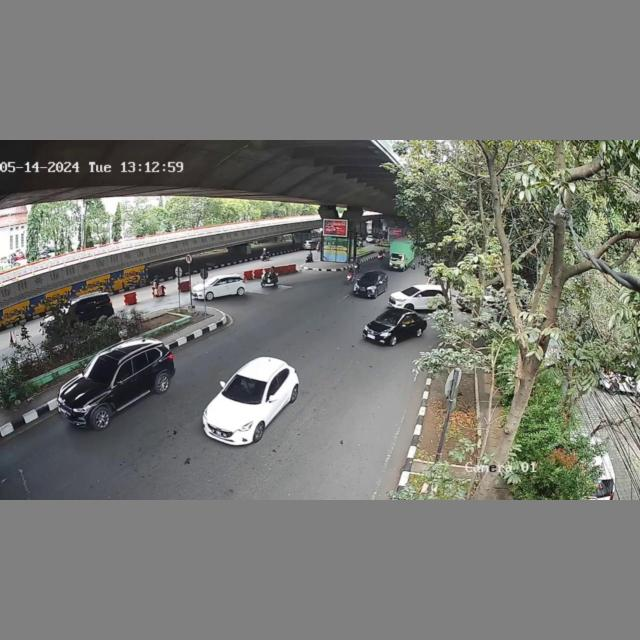windshield: (77, 354, 123, 390), (223, 376, 267, 402)
